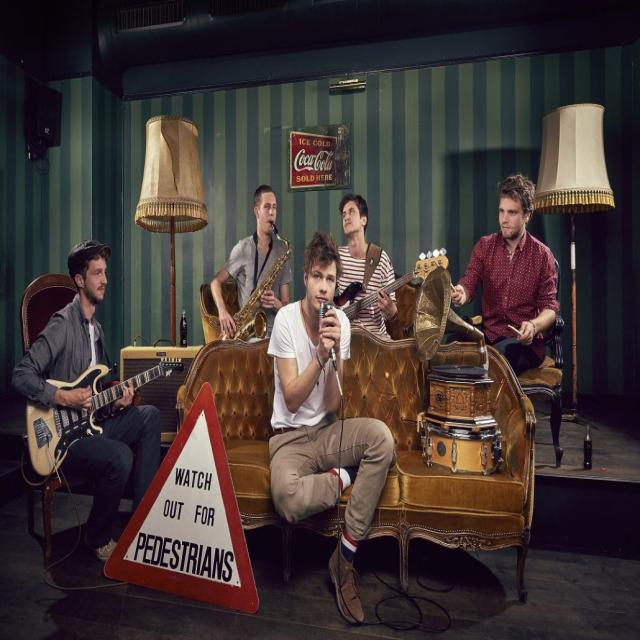body: (264, 224, 399, 629), (7, 238, 166, 569), (445, 172, 562, 379), (210, 183, 292, 343), (334, 191, 400, 343)
